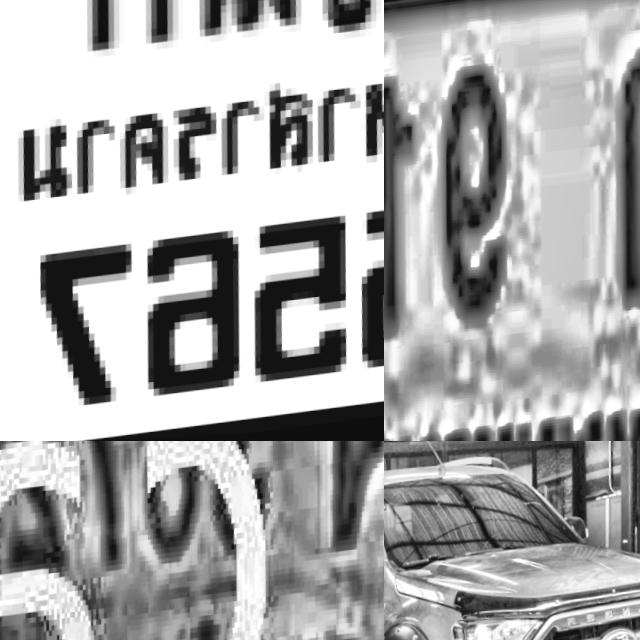license-plate: (0, 0, 384, 441), (384, 0, 640, 441), (0, 441, 384, 640)
